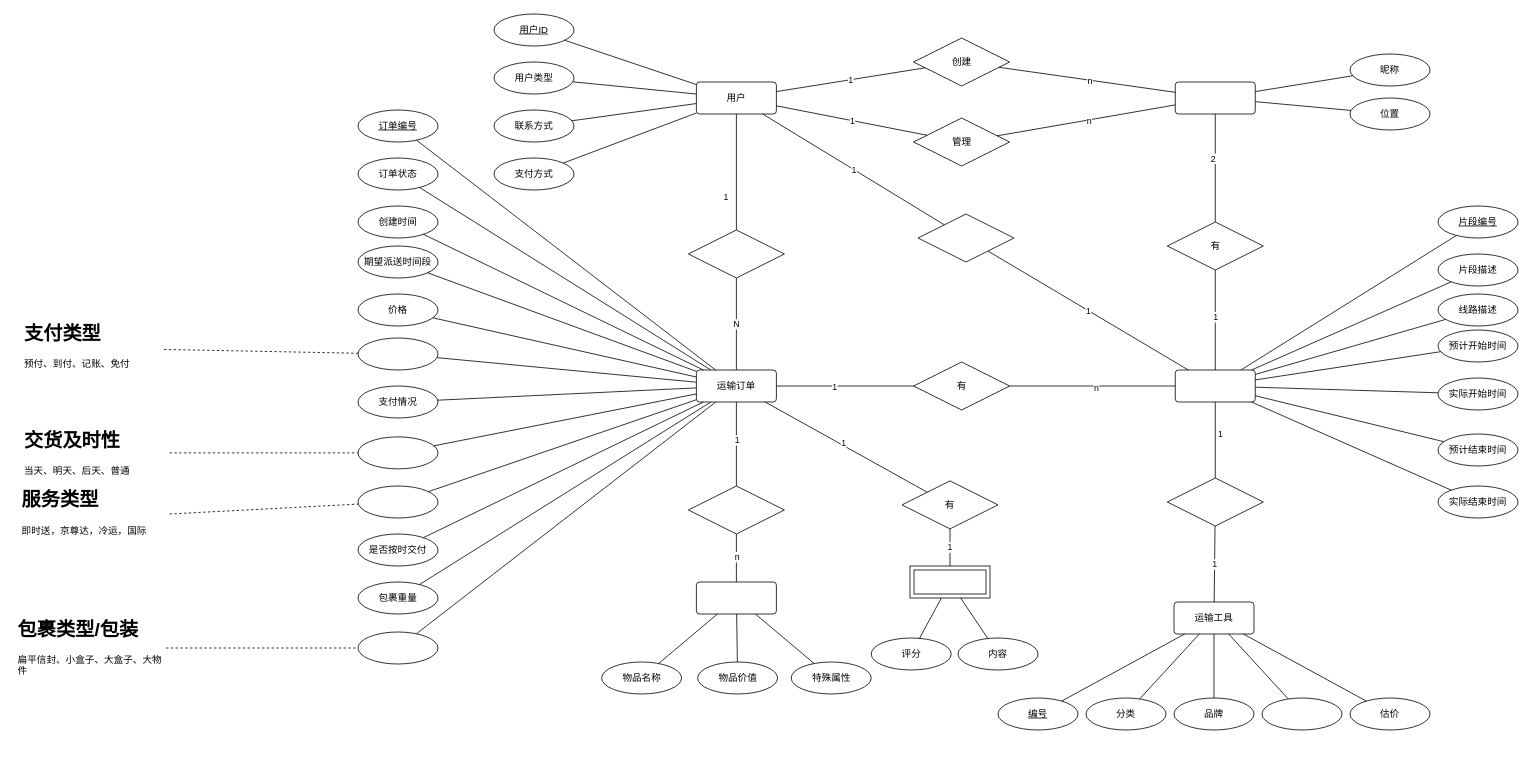
This 1532x758 diagram has some shape labels left out. The centre of each missing label's shape, as x and y in pixels:
"交货及时性" goes at point 397,452.
"使用" goes at point 1214,501.
"包含" goes at point 736,509.
"包装规模" goes at point 397,647.
"拥有" goes at point 736,253.
"支付类型" goes at point 397,353.
"服务类型" goes at point 397,501.
"牌号" goes at point 1301,713.
"物品" goes at point 736,597.
"评价" goes at point 949,581.
"负责" goes at point 965,237.
"运输片段" goes at point 1214,385.
"运输结点" goes at point 1214,97.
